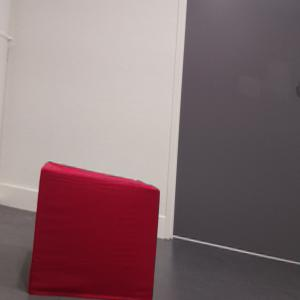medium: (26, 160, 161, 300)
